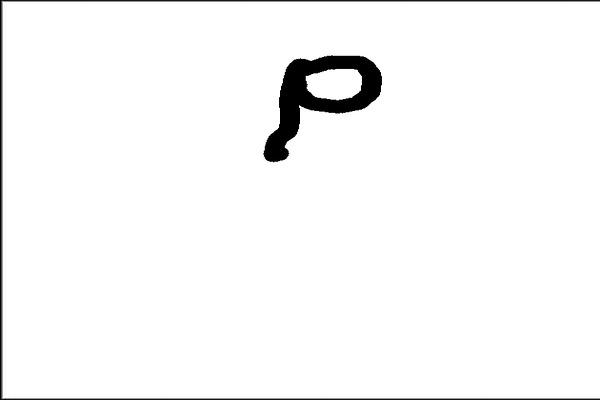P: (254, 38, 396, 171)
